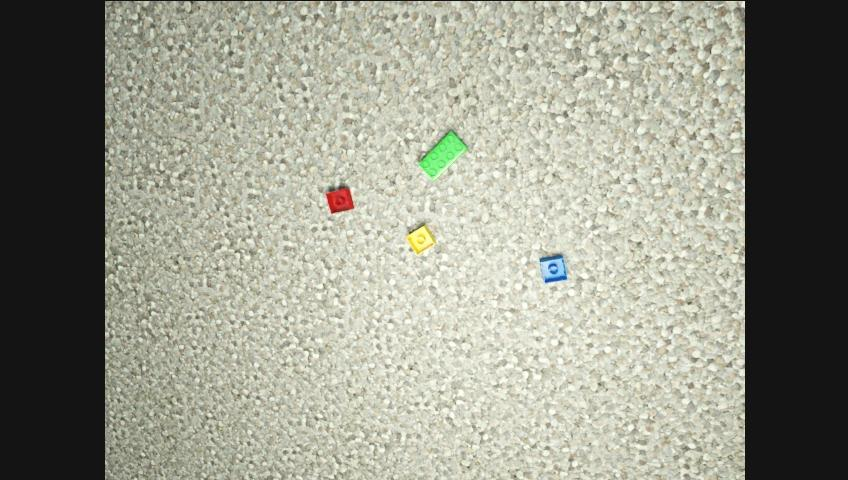2x2_blue: (539, 255, 567, 284)
2x2_red: (326, 188, 354, 214)
2x2_yellow: (405, 223, 435, 253)
4x2_green: (418, 131, 466, 180)
